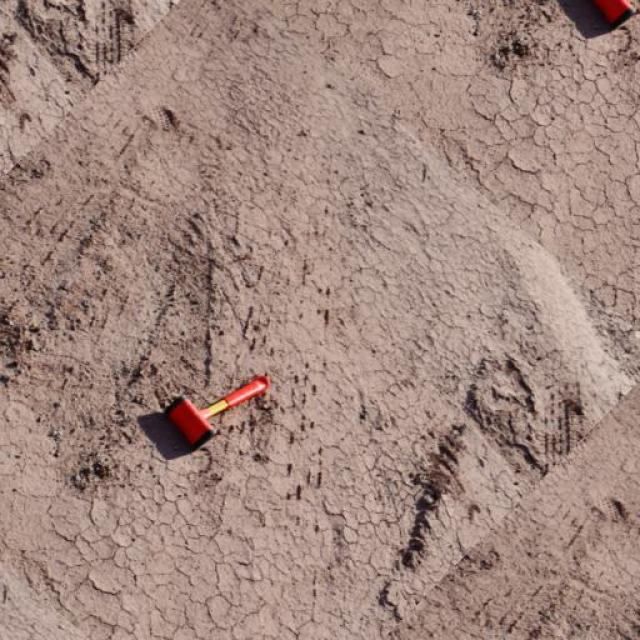mallet: (161, 372, 270, 448)
